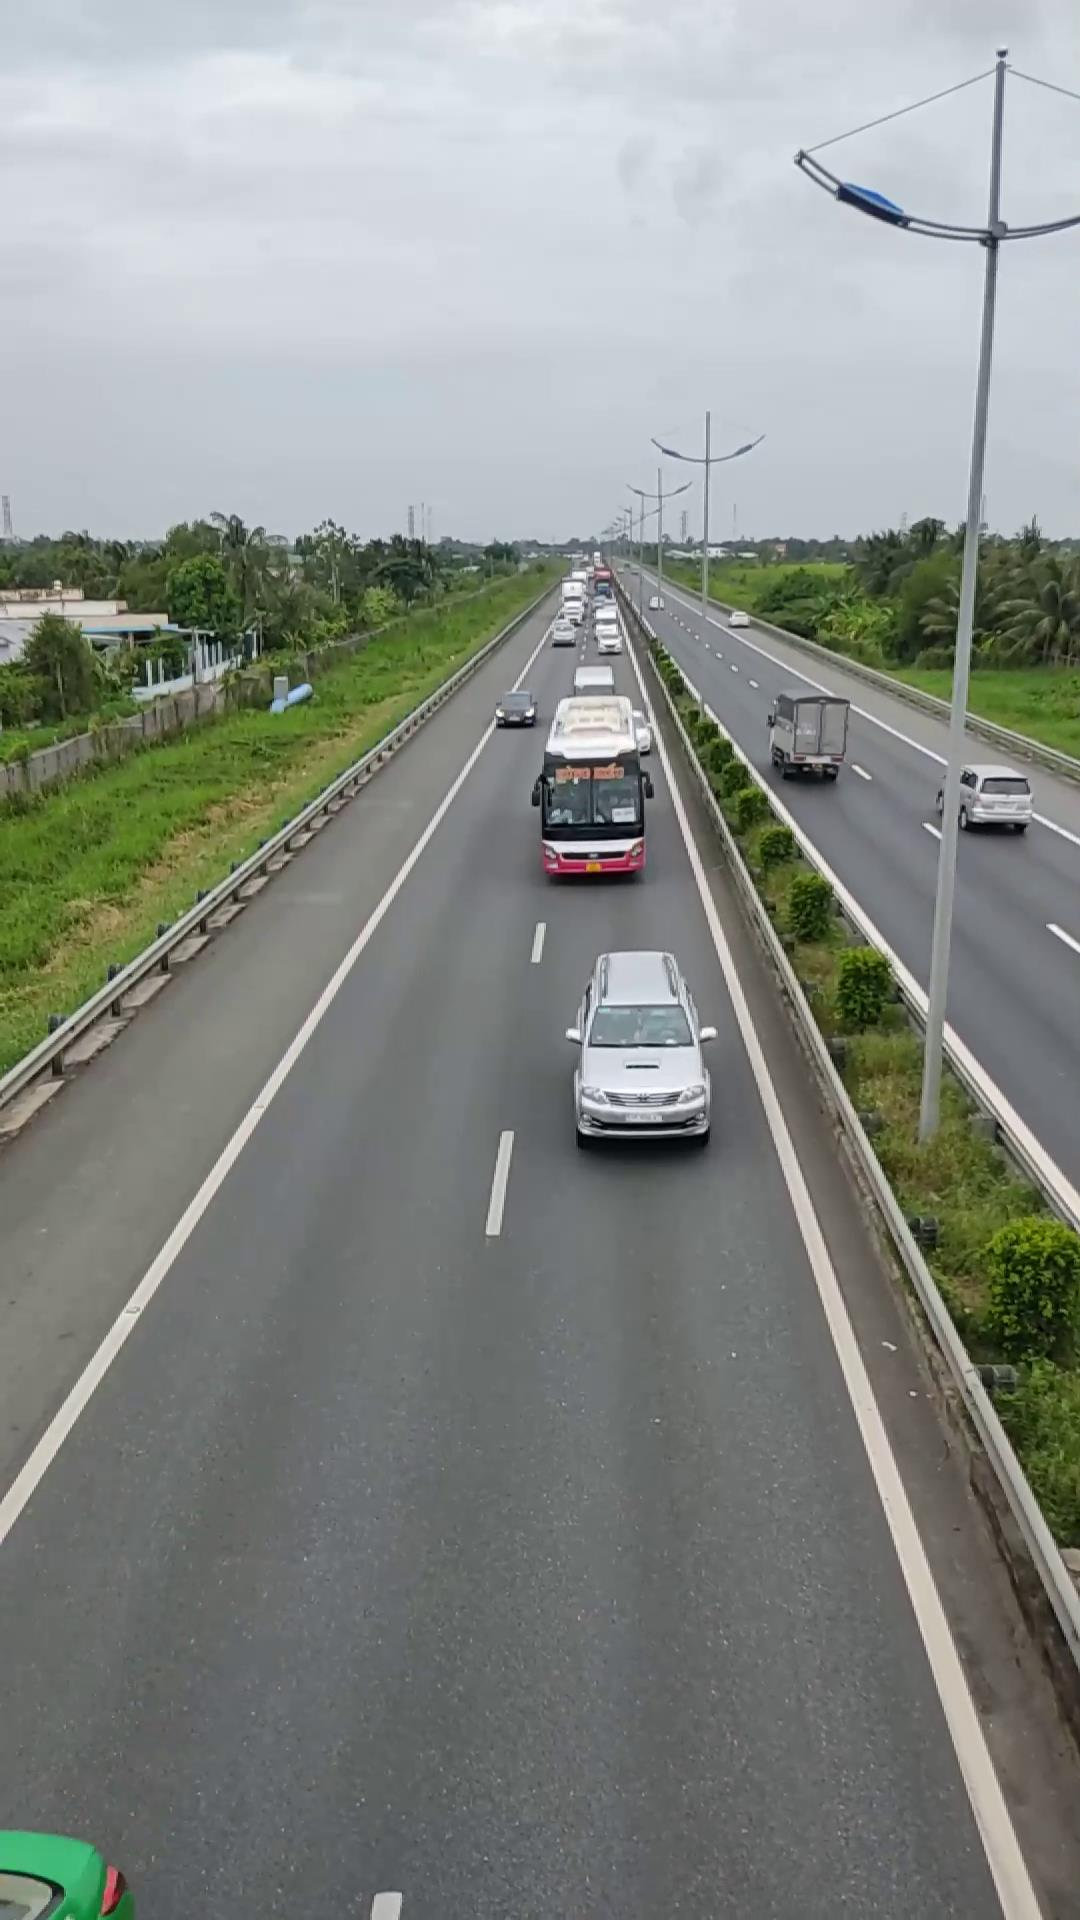bus: (530, 687, 647, 877)
car: (564, 947, 716, 1145), (942, 760, 1033, 833)
truck: (766, 686, 851, 781)
